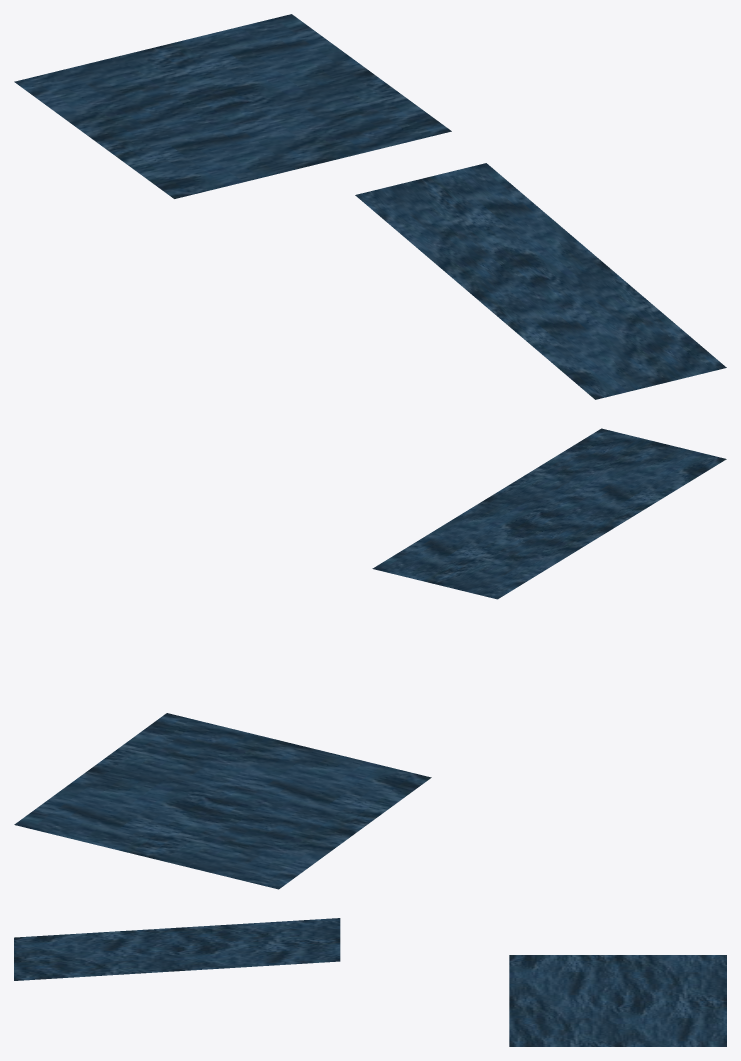
The model's file is reset_plane.glb.
3 renders of one model, top to bottom at view 1: azimuth 30°, elevation 25°; view 2: azimuth 150°, elevation 25°; view 3: azimuth 270°, elevation 25°, orthographic. The views are drawn at different scales.
Visible parts, largest first — view 1: sea.jpg__; view 2: sea.jpg__; view 3: sea.jpg__.
Part boxes in pixels (<box>): sea.jpg__: <box>14,14,726,399</box>; sea.jpg__: <box>14,428,726,889</box>; sea.jpg__: <box>14,918,726,1046</box>.
Bounding box in the file's own units: 41.85 × 11.78 × 137.
Materials: 1 (1 with a texture image).
